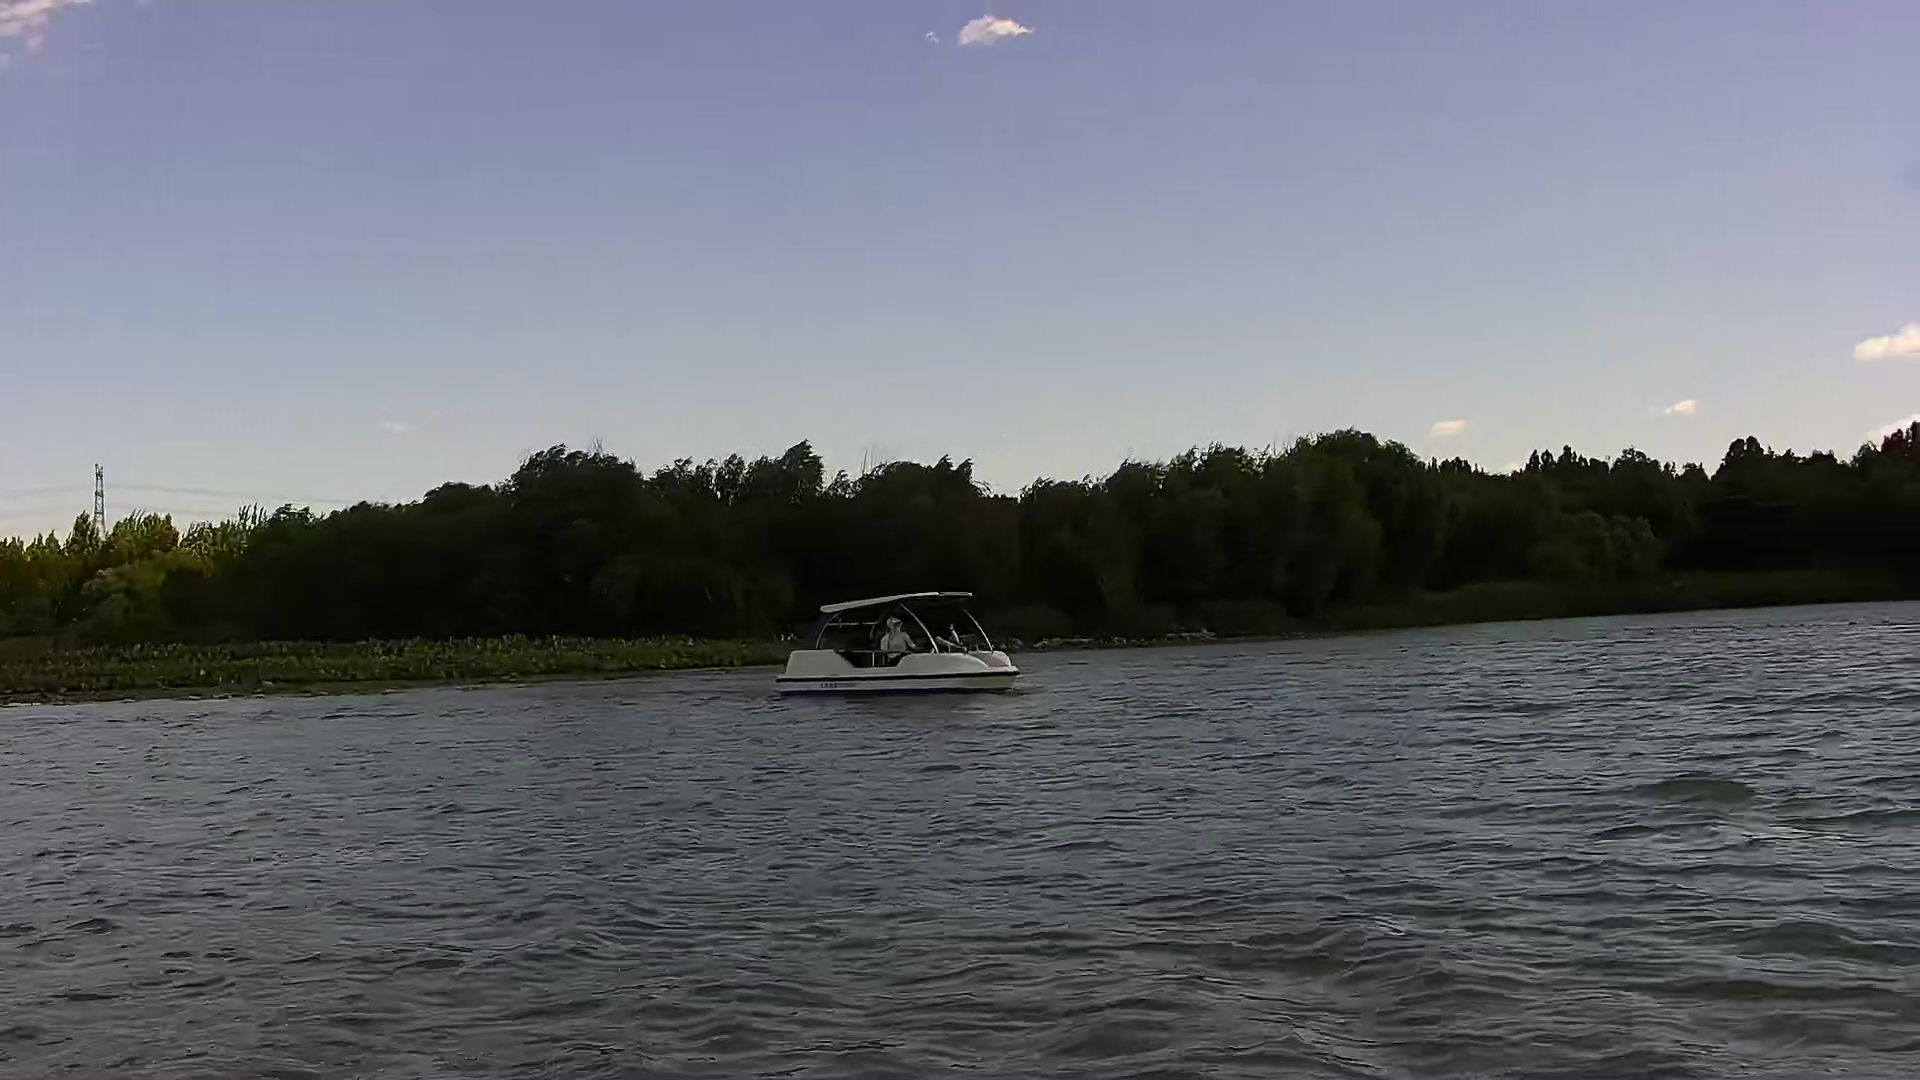boat: (775, 587, 1018, 697)
person: (871, 611, 918, 668)
